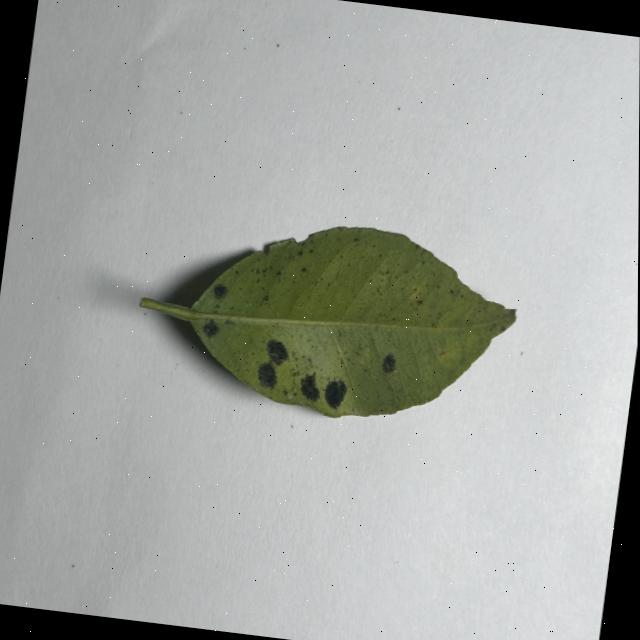sooty_mold: (140, 227, 514, 417)
